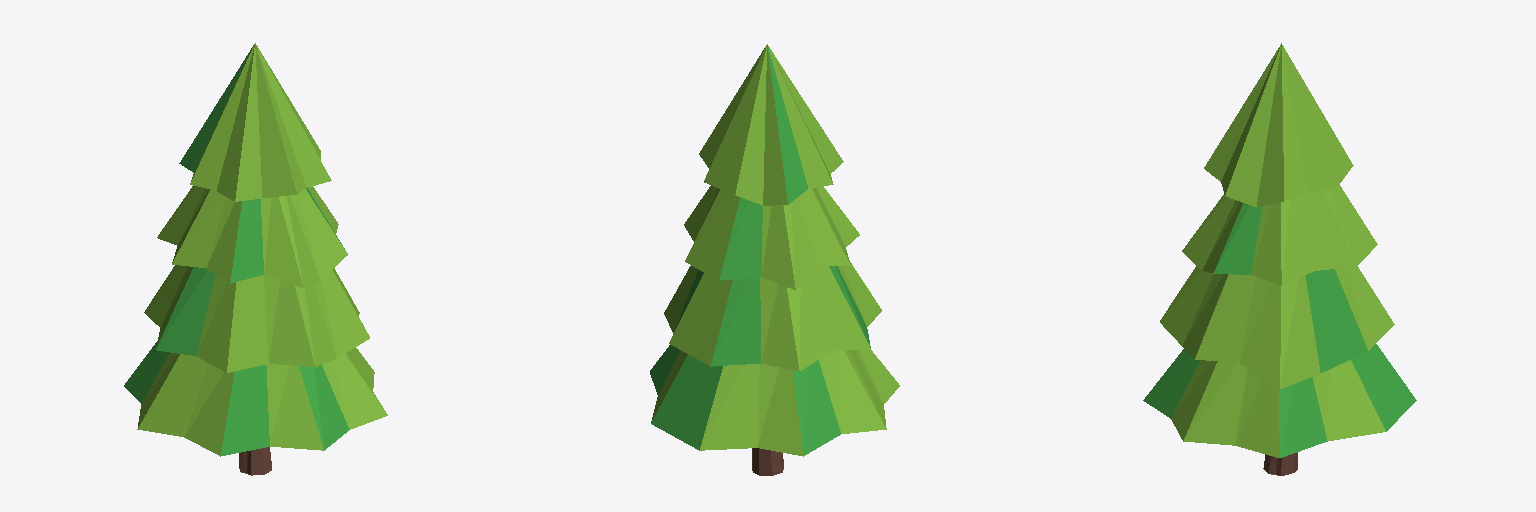
The model's file is pine_tree_02.obj.
3 views of the same model, side by side, from view 1: azimuth 30°, elevation 25°; view 2: azimuth 150°, elevation 25°; view 3: azimuth 270°, elevation 25° (orthographic).
Visible parts, largest first — view 1: pine_tree_01_Circle; view 2: pine_tree_01_Circle; view 3: pine_tree_01_Circle.
Part boxes in pixels (bbox=[...]): pine_tree_01_Circle: bbox=[124, 43, 387, 475]; pine_tree_01_Circle: bbox=[650, 44, 899, 475]; pine_tree_01_Circle: bbox=[1143, 43, 1416, 475].
Size of the model in its own units: 116 by 199 by 116.